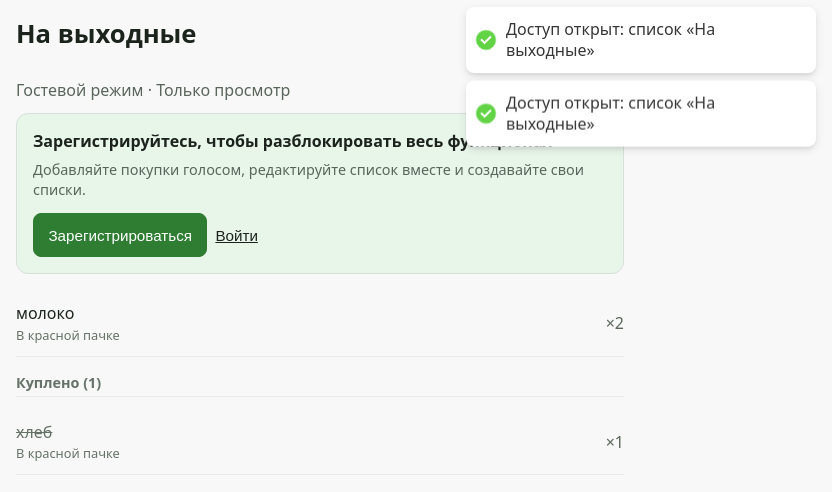
Test: guest invitation › can return from registration to the preview without losing the invite
This screenshot has width=832, height=492.
Expected: the text "молоко" is shown, [16, 302, 74, 324]
Click the button "Зарегистрироваться".
click(120, 235)  # box [33, 213, 207, 257]
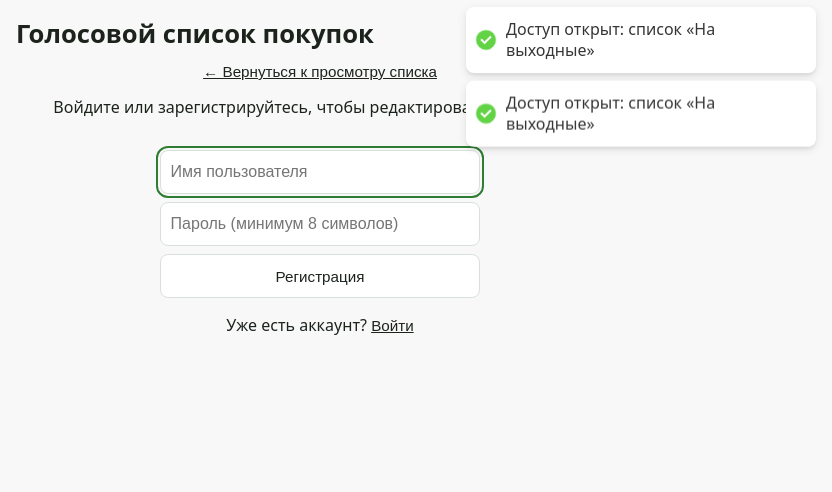
Click the button "← Вернуться к просмотру списка".
click(320, 72)  # box [203, 63, 437, 80]
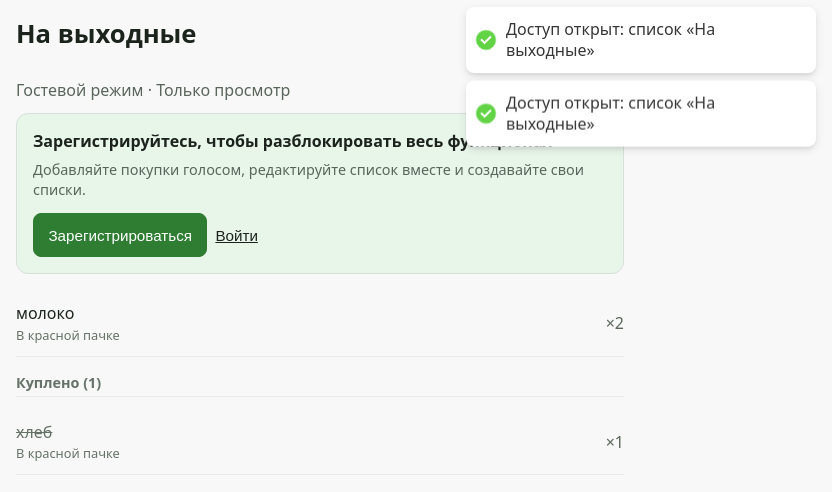
Expected: the text "молоко" is shown, [16, 302, 74, 324]
